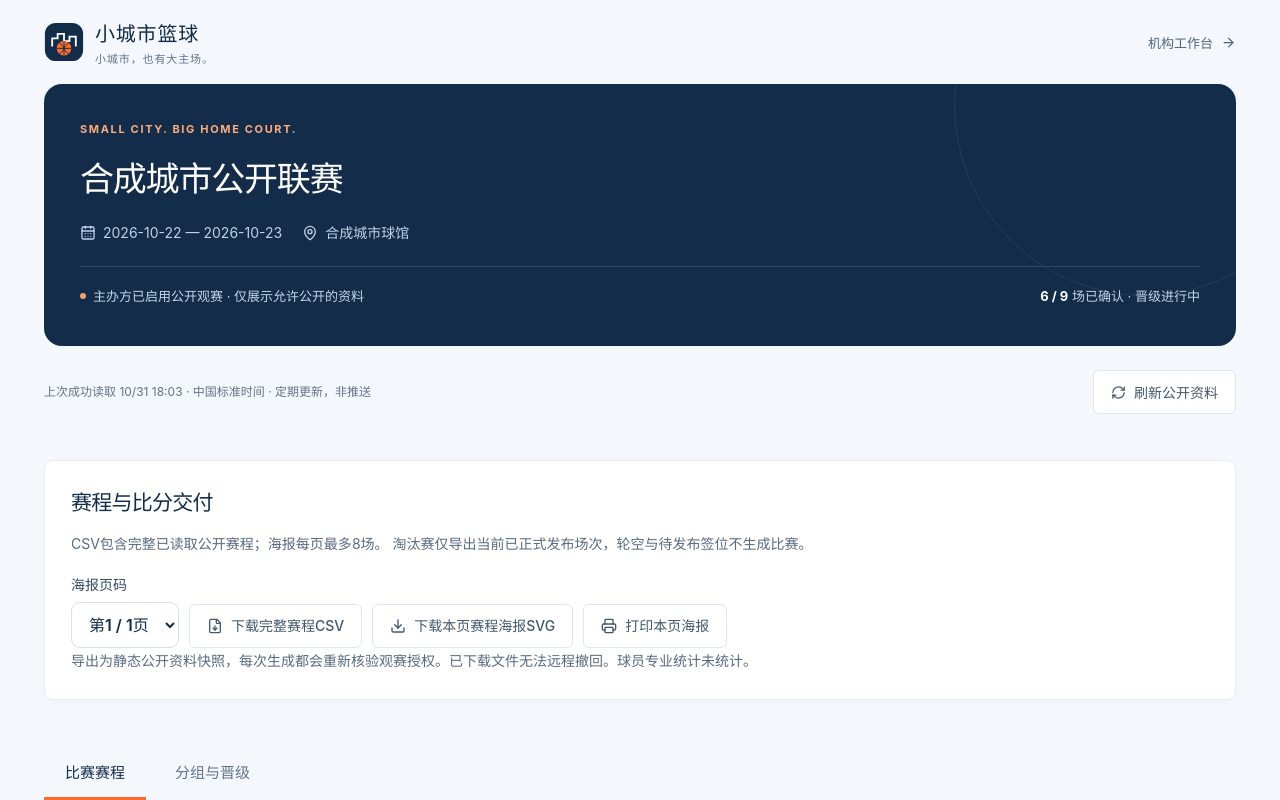
Test: anonymous group viewing format dispatch › reads scoped groups instead of a fictitious whole-event league table and clears all group content when revoked
Step 1. Click the tab "分组与晋级" → (212, 773), box [154,746,271,799]
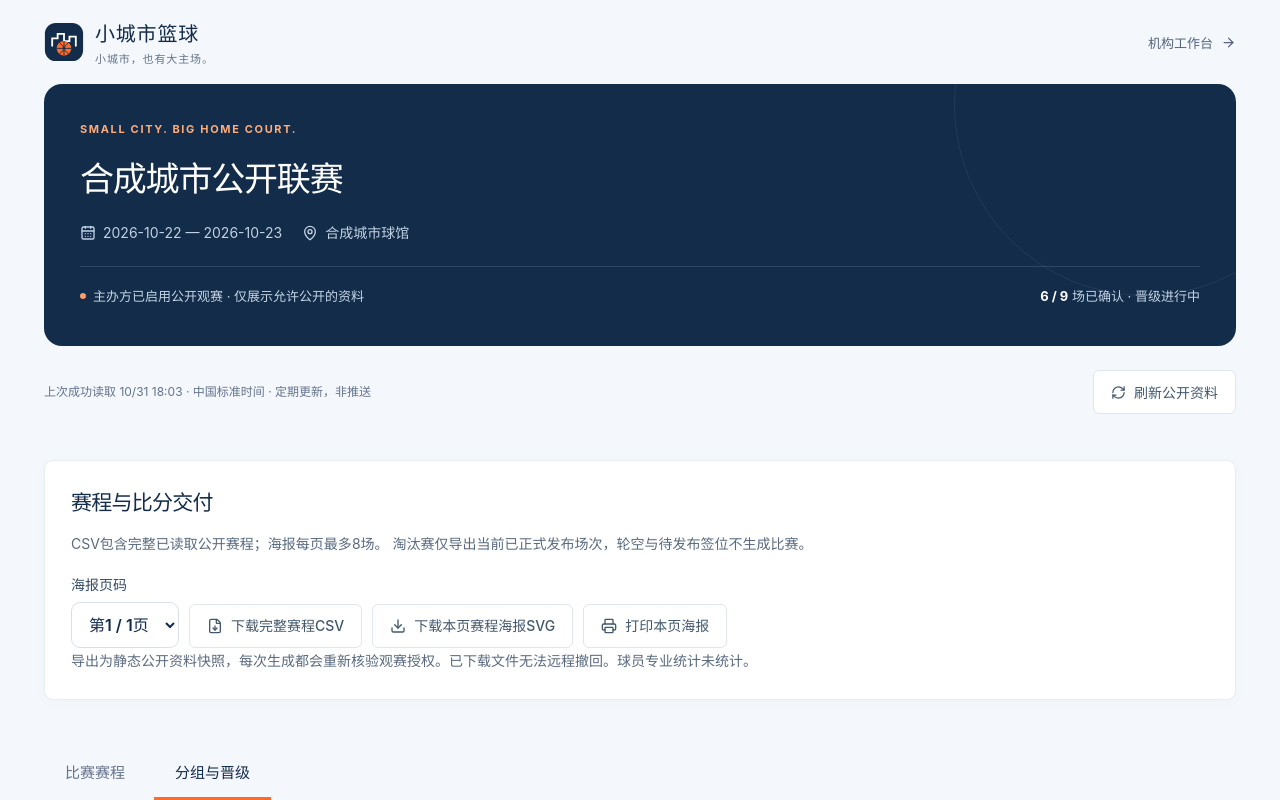
Step 2. Click the button "刷新公开资料" → (1164, 392), box [1093,370,1236,414]
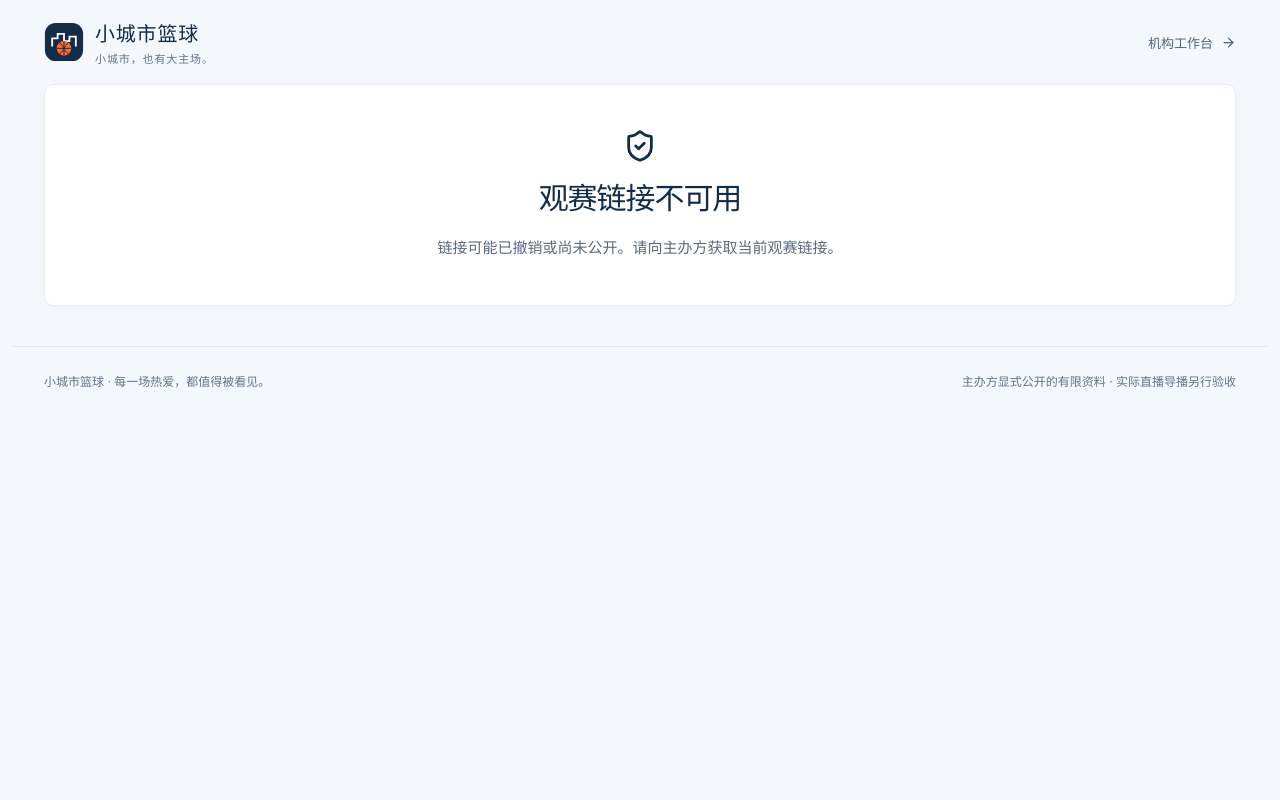
Expected: the tab "分组与晋级" is gone
